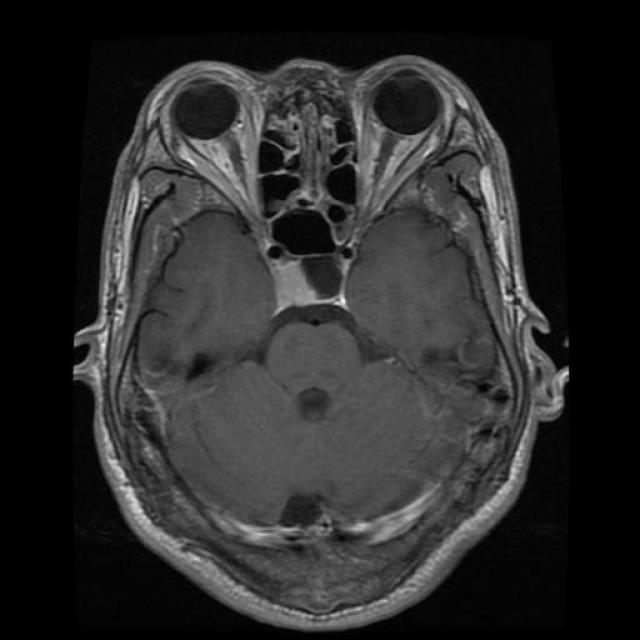pituitary: (242, 197, 364, 320)
